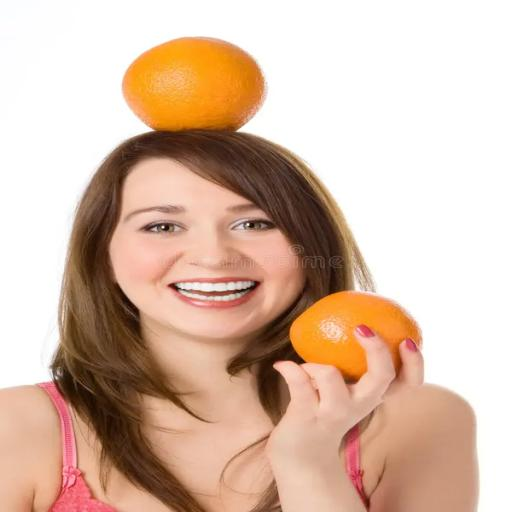orange: (123, 37, 267, 130), (290, 291, 422, 381)
